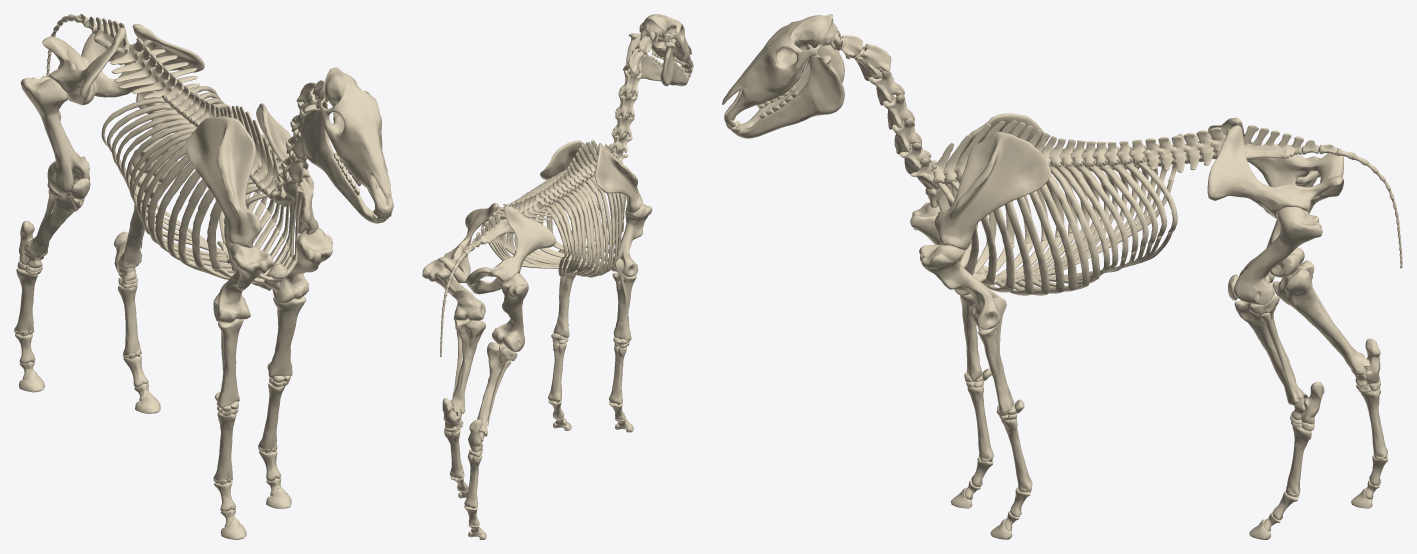
The model's file is untitledHORSE.glb.
3 views of the same model, side by side, from view 1: azimuth 30°, elevation 25°; view 2: azimuth 150°, elevation 25°; view 3: azimuth 270°, elevation 25° (orthographic). The views are drawn at different scales.
Parts seen in each view (by area): view 1: Object_49, Object_35, Object_48, Object_46, Object_7, Object_9, Object_11, Object_47, Object_10, Object_44, Object_12, Object_8 (+26 smaller); view 2: Object_48, Object_35, Object_46, Object_49, Object_43, Object_7, Object_42, Object_6, Object_47, Object_8, Object_13, Object_11 (+21 smaller); view 3: Object_34, Object_48, Object_49, Object_47, Object_8, Object_43, Object_12, Object_41, Object_10, Object_45, Object_9, Object_11 (+20 smaller).
Boxes of the visible parts, x1,y1,x2,y2 form: Object_49: (319, 67, 393, 215); Object_35: (185, 116, 261, 247); Object_48: (42, 23, 204, 105); Object_46: (20, 76, 89, 193); Object_7: (85, 16, 302, 261); Object_9: (19, 133, 294, 539); Object_11: (141, 147, 292, 272); Object_47: (301, 91, 385, 223); Object_10: (134, 139, 284, 526); Object_44: (213, 244, 273, 322); Object_12: (24, 134, 283, 280); Object_8: (15, 98, 297, 387); Object_48: (438, 203, 555, 294); Object_35: (595, 143, 642, 213); Object_46: (492, 273, 528, 351); Object_49: (639, 14, 693, 69); Object_43: (422, 259, 484, 320); Object_7: (470, 194, 626, 263); Object_42: (450, 319, 485, 413); Object_6: (444, 51, 655, 456); Object_47: (626, 29, 689, 86); Object_8: (450, 185, 591, 525); Object_13: (442, 36, 652, 428); Object_11: (526, 182, 618, 277); Object_34: (934, 131, 1050, 250); Object_48: (1207, 117, 1343, 220); Object_49: (722, 14, 840, 123); Object_47: (735, 44, 844, 138); Object_8: (951, 148, 1388, 519); Object_43: (1233, 207, 1322, 304); Object_12: (1016, 173, 1367, 419); Object_41: (1272, 260, 1370, 375); Object_10: (965, 148, 1280, 531); Object_45: (919, 244, 1000, 329); Object_9: (951, 148, 1379, 539); Object_11: (993, 171, 1089, 295).
Bounding box in the file's own units: 1.69 × 6.04 × 7.39.
